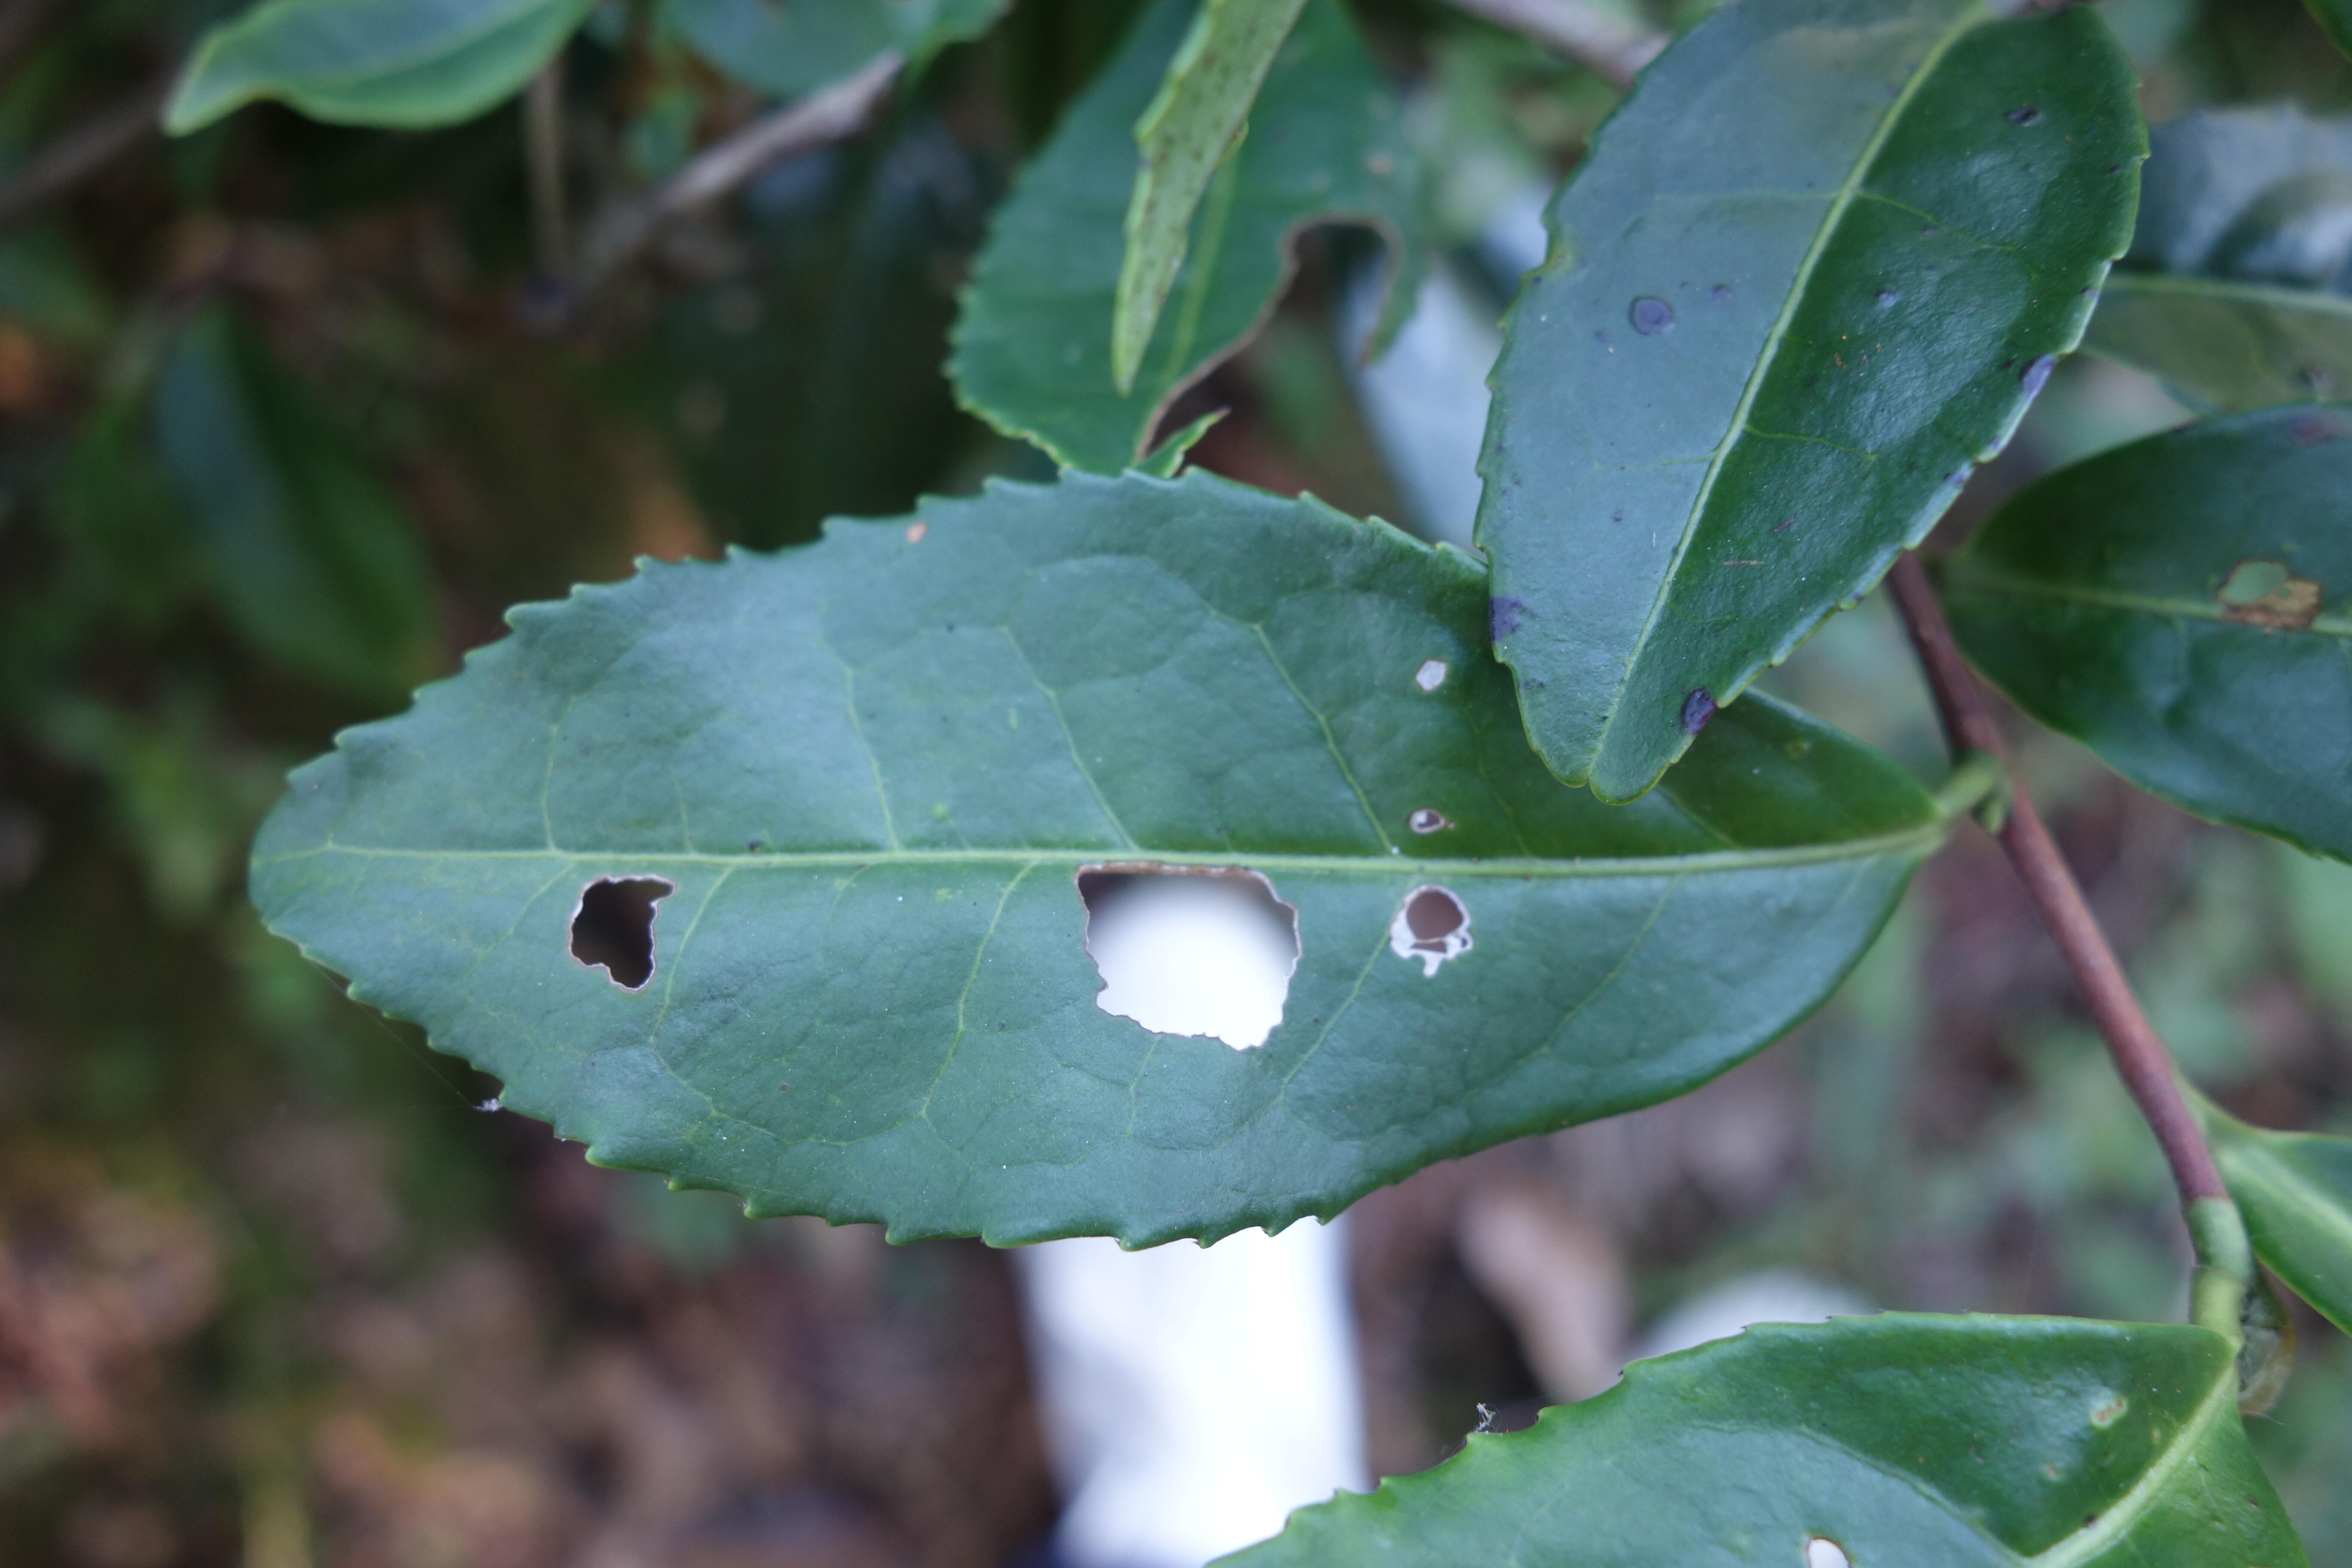chihuo_high: (241, 465, 1939, 1260)
